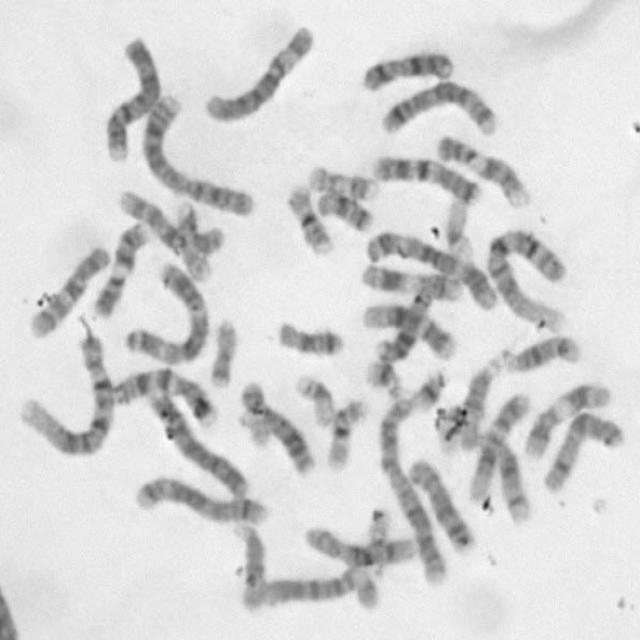A1: (13, 328, 115, 459), (482, 223, 569, 333)
A2: (139, 90, 257, 218), (375, 384, 448, 588)
A3: (360, 226, 500, 313), (121, 257, 210, 366)
B4: (146, 386, 252, 490), (100, 40, 161, 164)
B5: (127, 470, 268, 526), (376, 76, 501, 138)
C10: (24, 242, 110, 340), (114, 184, 225, 257)
C11: (520, 378, 613, 461), (357, 260, 463, 304)
C12: (465, 388, 532, 504), (358, 299, 458, 361)
C6: (200, 19, 318, 126), (240, 562, 382, 614)
C7: (106, 364, 218, 428), (368, 154, 482, 205)
C8: (404, 454, 477, 556), (310, 520, 411, 571)
C9: (434, 131, 529, 210), (91, 218, 150, 320)
D13: (237, 382, 316, 478), (374, 287, 434, 365)
D14: (480, 430, 536, 528), (501, 330, 582, 374)
D15: (458, 346, 521, 456), (219, 518, 272, 614)
E16: (282, 180, 334, 256), (322, 393, 369, 474)
E17: (170, 198, 212, 282), (303, 161, 380, 203)
E18: (273, 317, 346, 359), (315, 187, 375, 233)
F19: (292, 371, 336, 429), (441, 197, 476, 260)
F20: (205, 314, 240, 390), (238, 380, 271, 450)
G21: (360, 354, 406, 400), (410, 367, 449, 414)
G22: (366, 505, 394, 574), (434, 405, 460, 456)
X: (540, 406, 626, 492), (358, 47, 456, 93)
